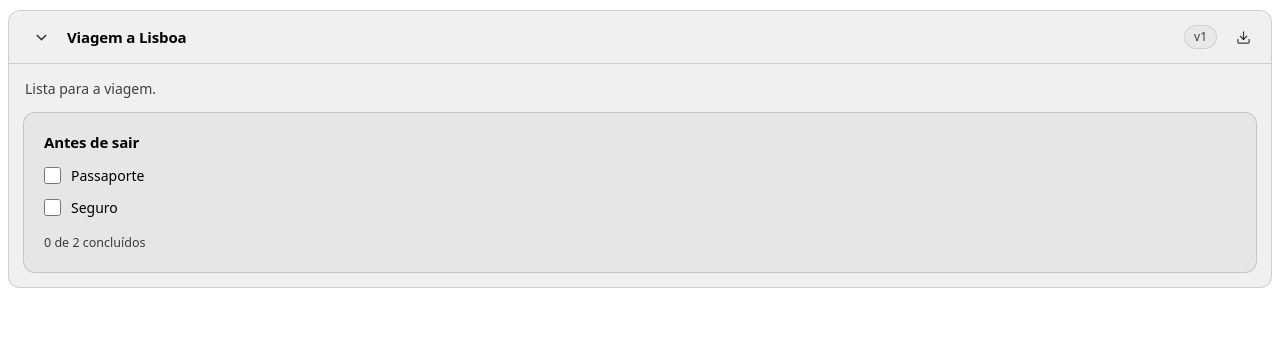
Test case: InlineCanvas › shows the saved revision and keeps an interaction as a draft, not a revision
This screenshot has width=1280, height=342.
Expected: the heading "Viagem a Lisboa" is shown, top-left (67, 27), bottom-right (186, 47)
Expected: the text "v1" is shown, top-left (1184, 25), bottom-right (1217, 49)
Click the checkbox labelled "Passaporte" at (52, 176), box top-left (44, 167), bottom-right (61, 184)
Wait 800 ms
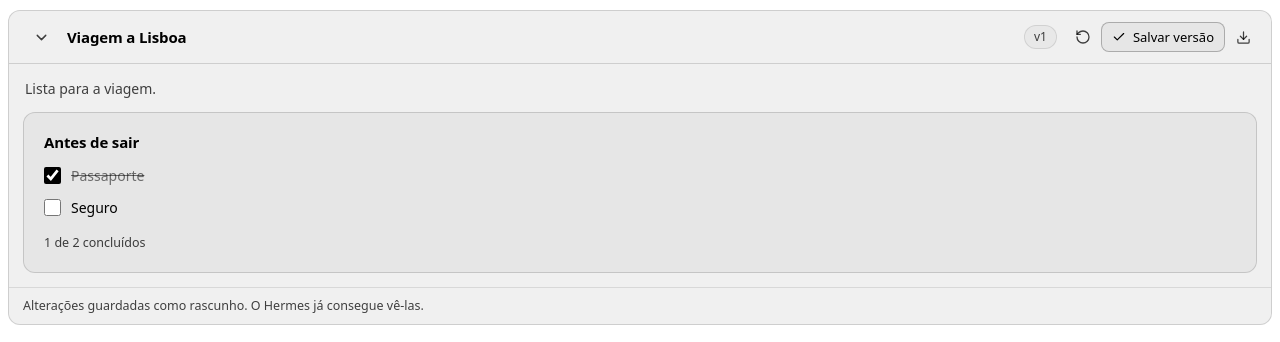
Now the button "Salvar versão" is shown, box top-left (1101, 22), bottom-right (1225, 52)
Now the message shows "O Hermes já consegue vê-las", box top-left (23, 297), bottom-right (424, 314)
